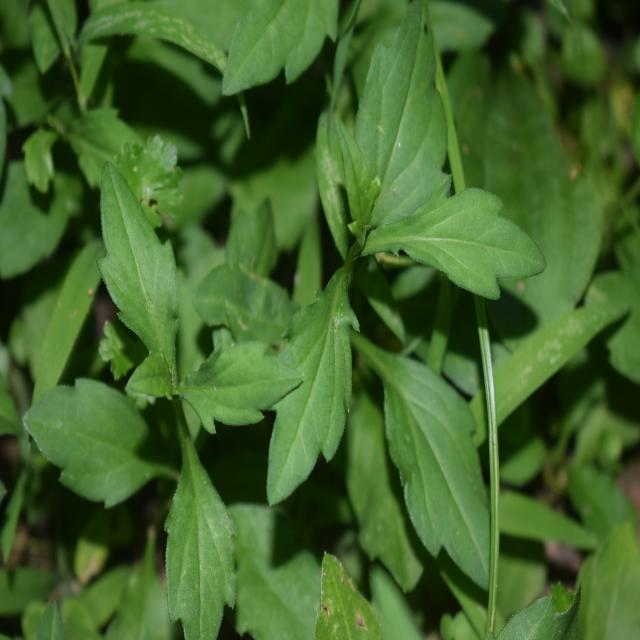Indian aster: (260, 23, 497, 585), (45, 120, 263, 607)
